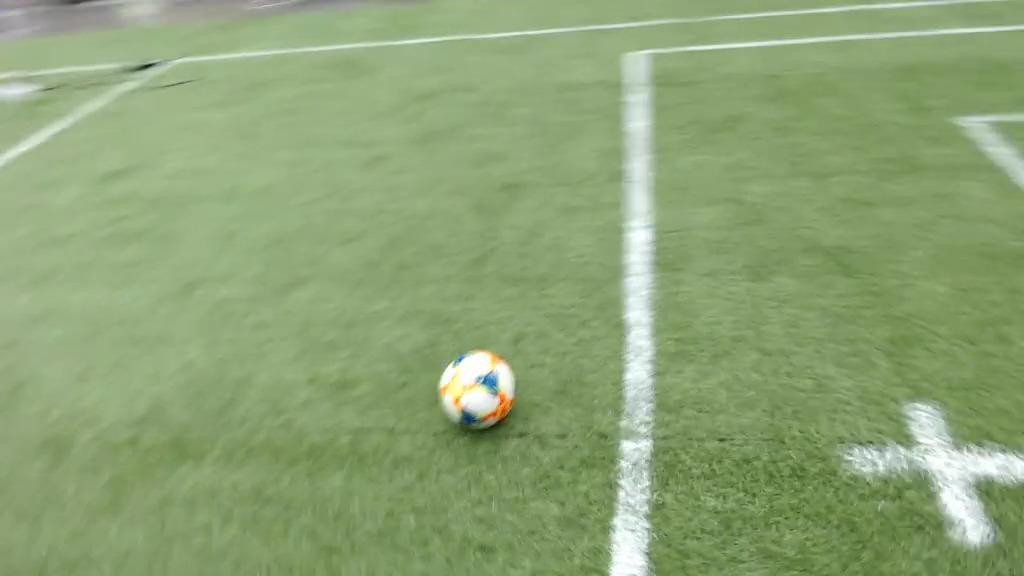ball: (423, 338, 533, 434)
